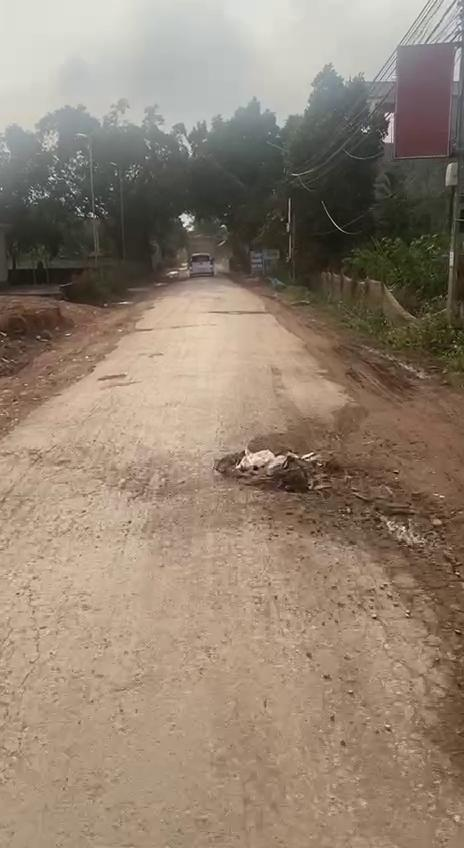pothole: (220, 447, 368, 509)
